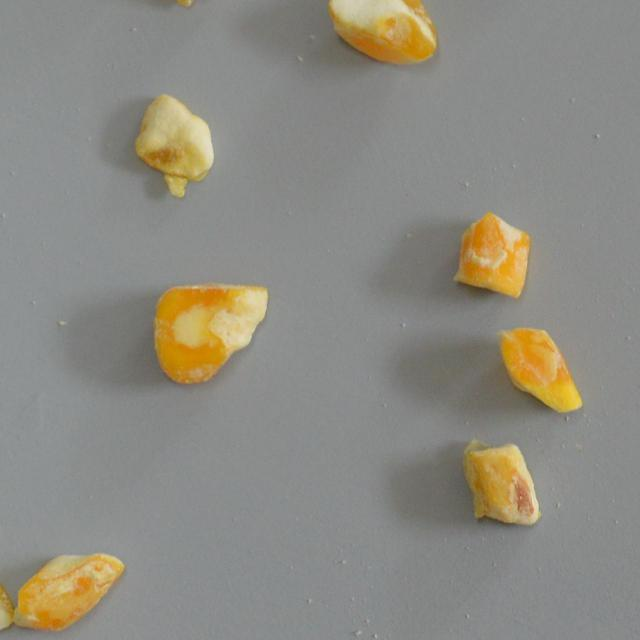dañado: (459, 436, 544, 528)
pelicula: (152, 280, 272, 386), (11, 548, 126, 632), (131, 92, 217, 198), (498, 326, 584, 412), (327, 0, 437, 67), (452, 210, 532, 298), (0, 516, 15, 640)
